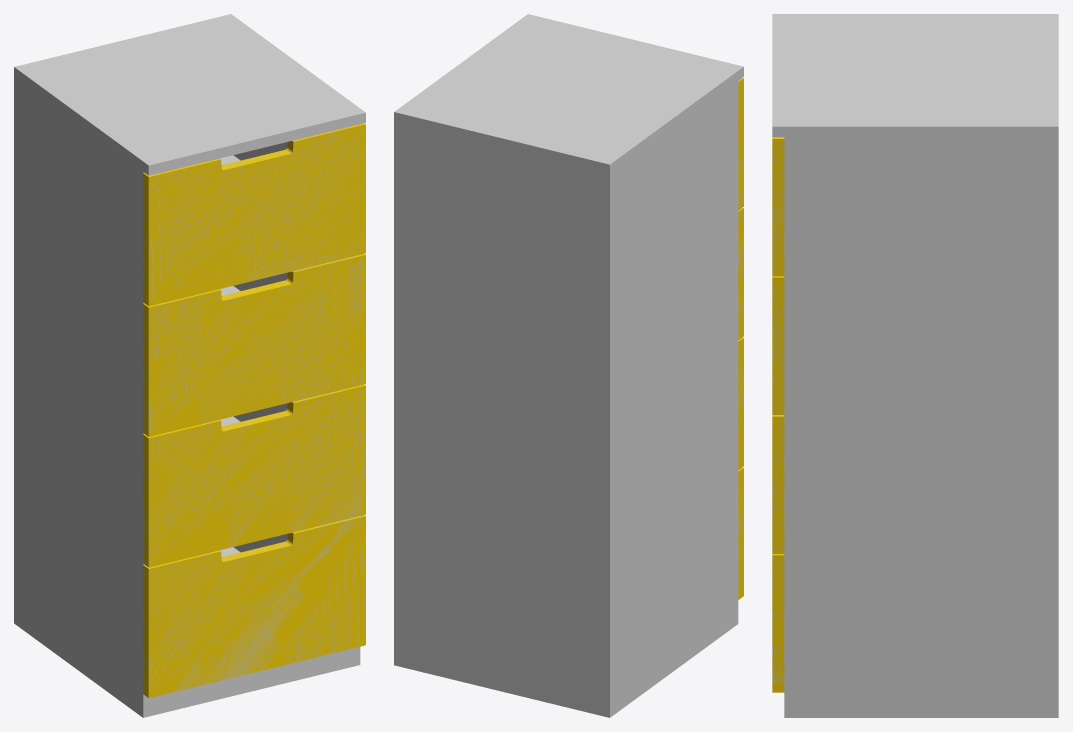
The picture shows the model from 3 angles, left to right: view 1: azimuth 30°, elevation 25°; view 2: azimuth 150°, elevation 25°; view 3: azimuth 270°, elevation 25°; orthographic projection. The views are drawn at different scales.
Visible parts, largest first — view 1: group_1 (×2), group_0, group_2, group_3, group_4, group_5, group_6; view 2: group_0, group_2, group_1 (×2), group_4, group_3, group_5, group_6; view 3: group_0, group_2, group_1 (×2), group_3, group_4, group_5, group_6.
Boxes of the visible parts, left/top/right/bottom form: group_1 (×2): left=14, top=14, right=365, bottom=717; group_0: left=14, top=77, right=144, bottom=432; group_2: left=14, top=338, right=144, bottom=693; group_3: left=143, top=123, right=365, bottom=306; group_4: left=143, top=515, right=365, bottom=697; group_5: left=143, top=384, right=365, bottom=567; group_6: left=143, top=254, right=365, bottom=436; group_0: left=394, top=81, right=738, bottom=434; group_2: left=394, top=341, right=738, bottom=694; group_1 (×2): left=394, top=14, right=743, bottom=717; group_4: left=738, top=467, right=743, bottom=599; group_3: left=738, top=78, right=743, bottom=210; group_5: left=738, top=337, right=743, bottom=469; group_6: left=738, top=208, right=743, bottom=340; group_0: left=784, top=137, right=1058, bottom=414; group_2: left=784, top=415, right=1058, bottom=692; group_1 (×2): left=772, top=14, right=1058, bottom=717; group_3: left=772, top=137, right=784, bottom=276; group_4: left=772, top=554, right=784, bottom=692; group_5: left=772, top=415, right=784, bottom=553; group_6: left=772, top=276, right=784, bottom=414.
Bounding box in the file's own units: 15.75 × 16.93 × 38.58.
